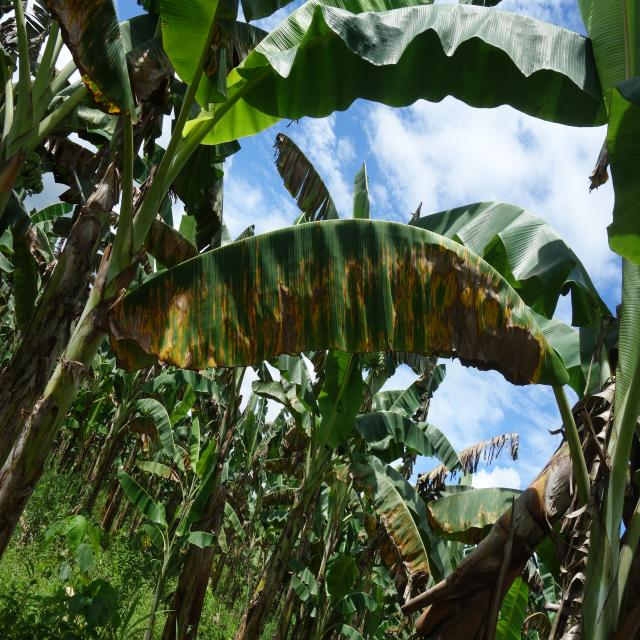Banana-plant: (2, 87, 217, 579), (228, 450, 330, 638), (67, 397, 137, 538)
